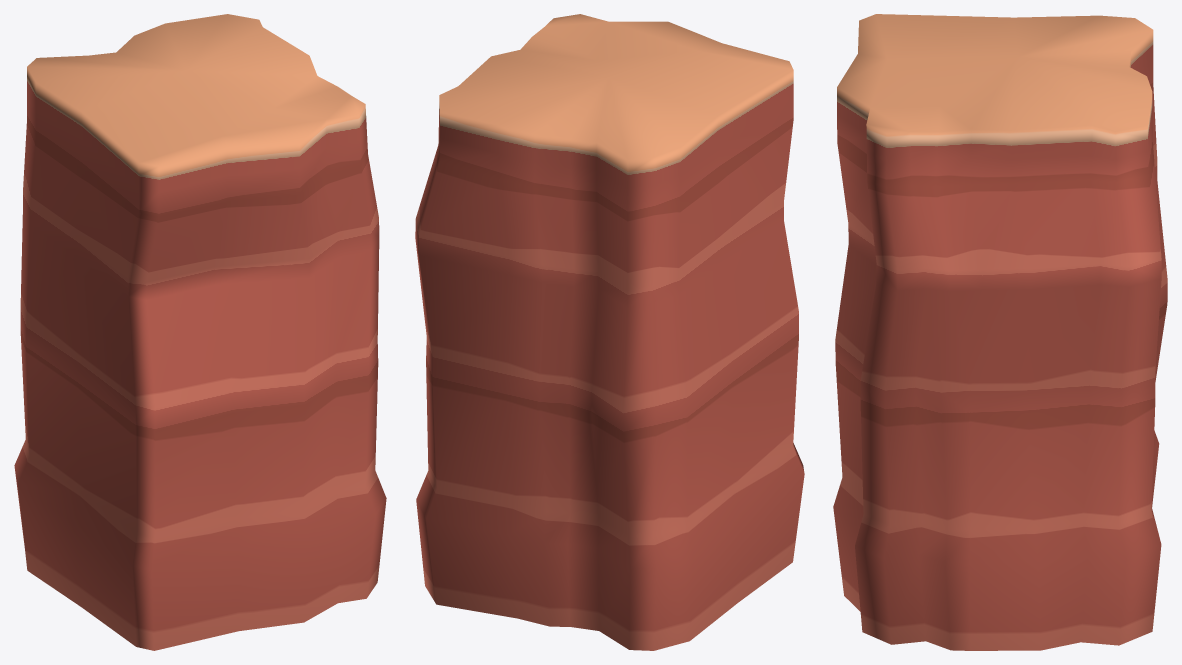
Rendered from BO_Rock_1x2x1.fbx.
3 renders of one model, left to right at view 1: azimuth 30°, elevation 25°; view 2: azimuth 150°, elevation 25°; view 3: azimuth 270°, elevation 25°, orthographic. The views are drawn at different scales.
Visible parts, largest first — view 1: Rock_1x2x1; view 2: Rock_1x2x1; view 3: Rock_1x2x1.
Boxes of the visible parts, <box> form: Rock_1x2x1: <box>14,14,386,650</box>; Rock_1x2x1: <box>415,14,804,650</box>; Rock_1x2x1: <box>833,14,1167,650</box>.
Size of the model in its own units: 117 by 204 by 119.
Materials: 1 (1 with a texture image).
